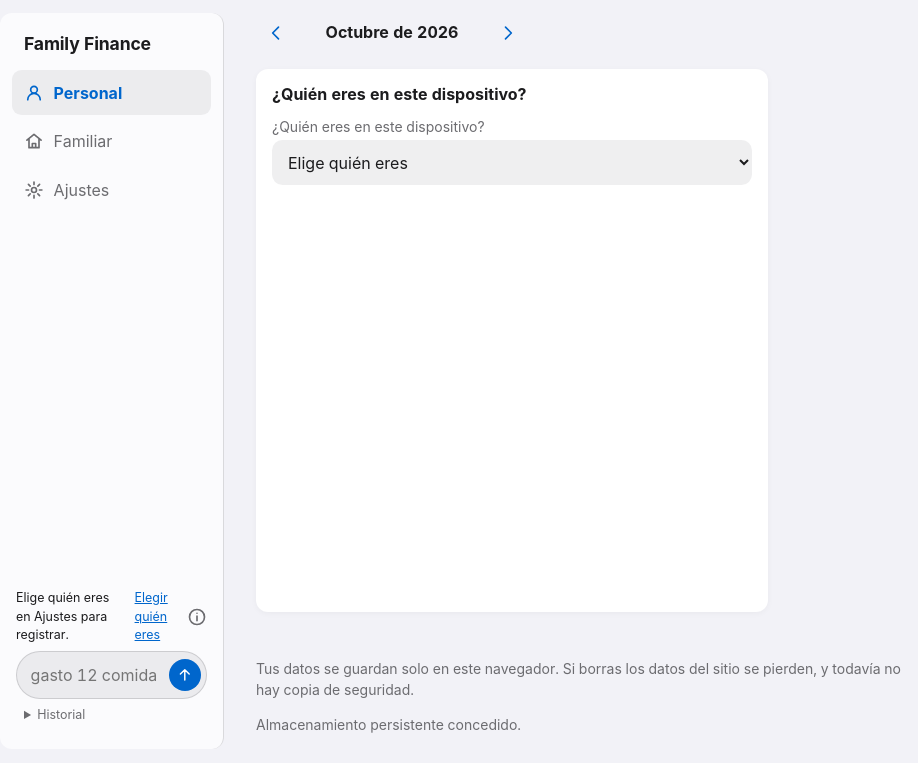
assistant capture bar shell › G1: does not write when several active members have no selected me
This screenshot has width=918, height=763.
Type "ingreso 1200 bonus" into the field named "Escribe un movimiento" at (96, 675), box [31, 656, 161, 694]
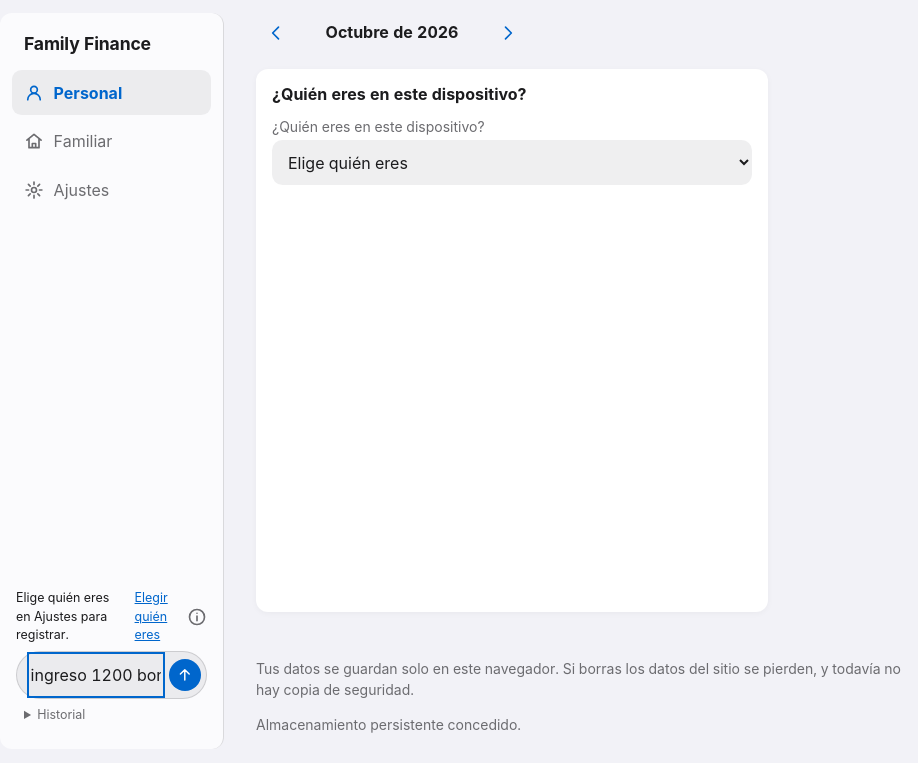
Click the button named "Registrar" at (185, 675), box [169, 659, 201, 691]
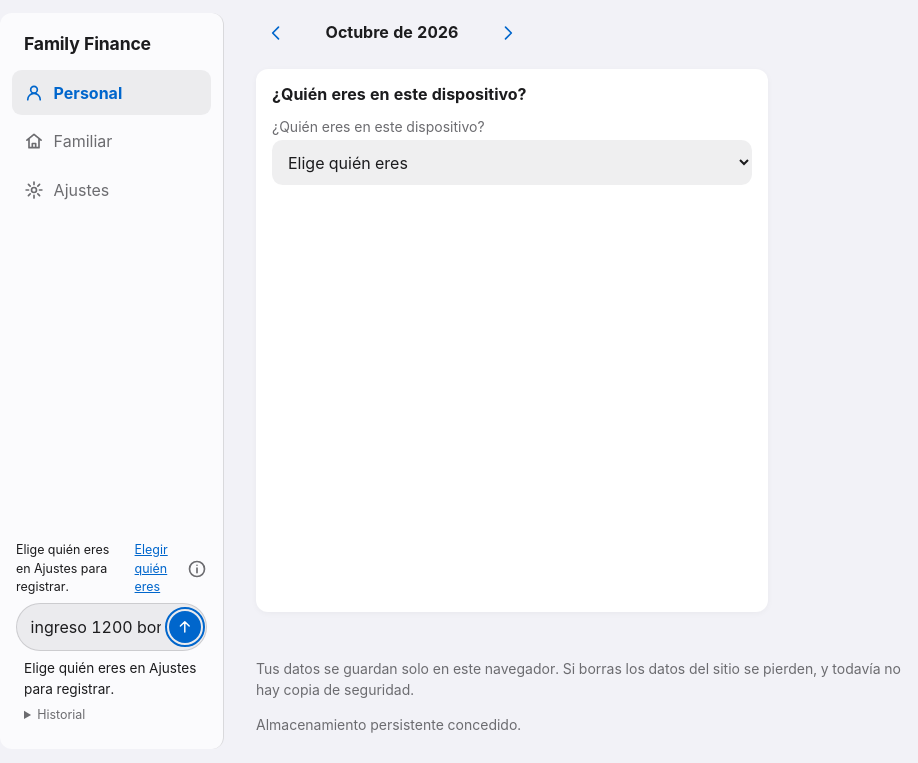
Check: the message reads "Elige quién eres en Ajustes para registrar.", box [24, 660, 196, 697]
